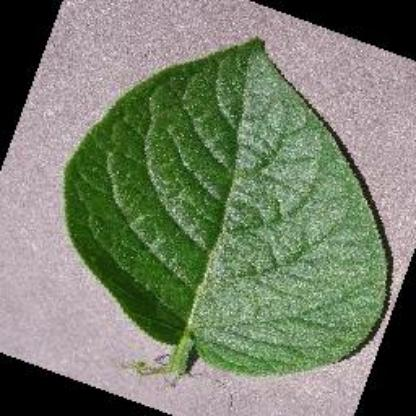Healthy-plant: (58, 32, 400, 380)
